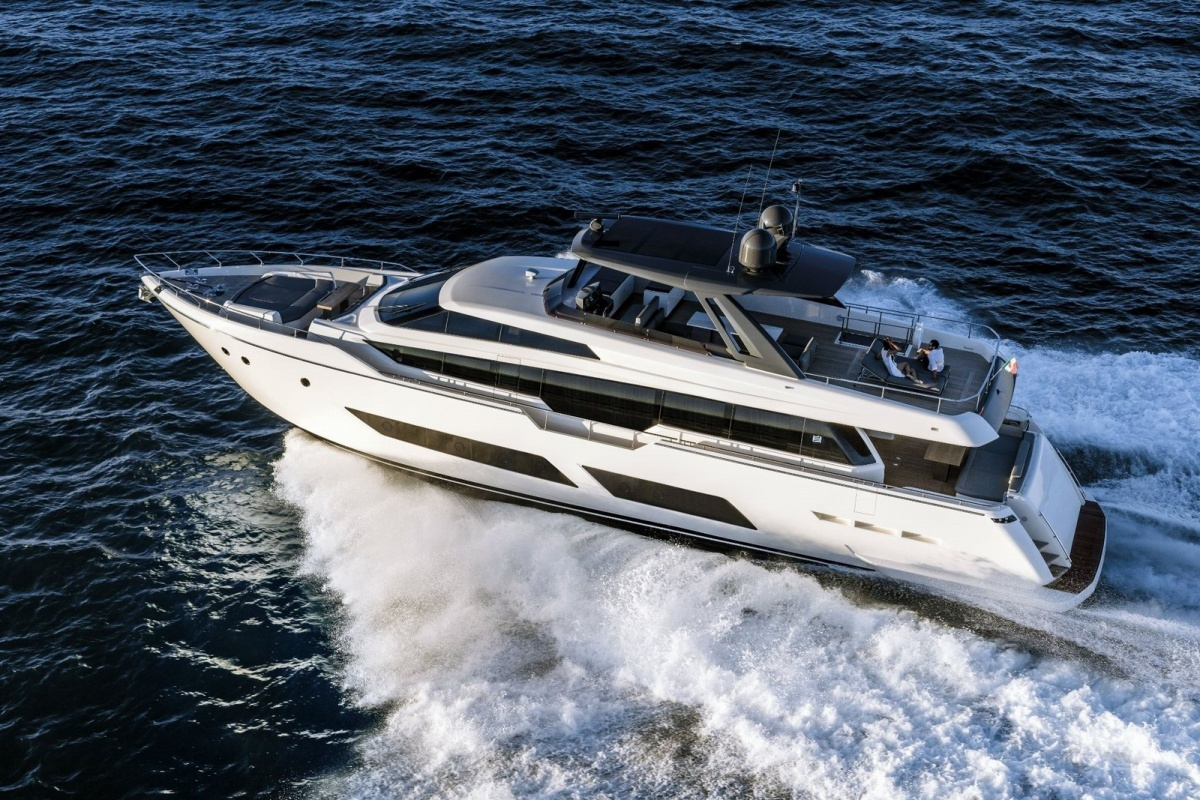yacht: (109, 184, 1115, 620)
